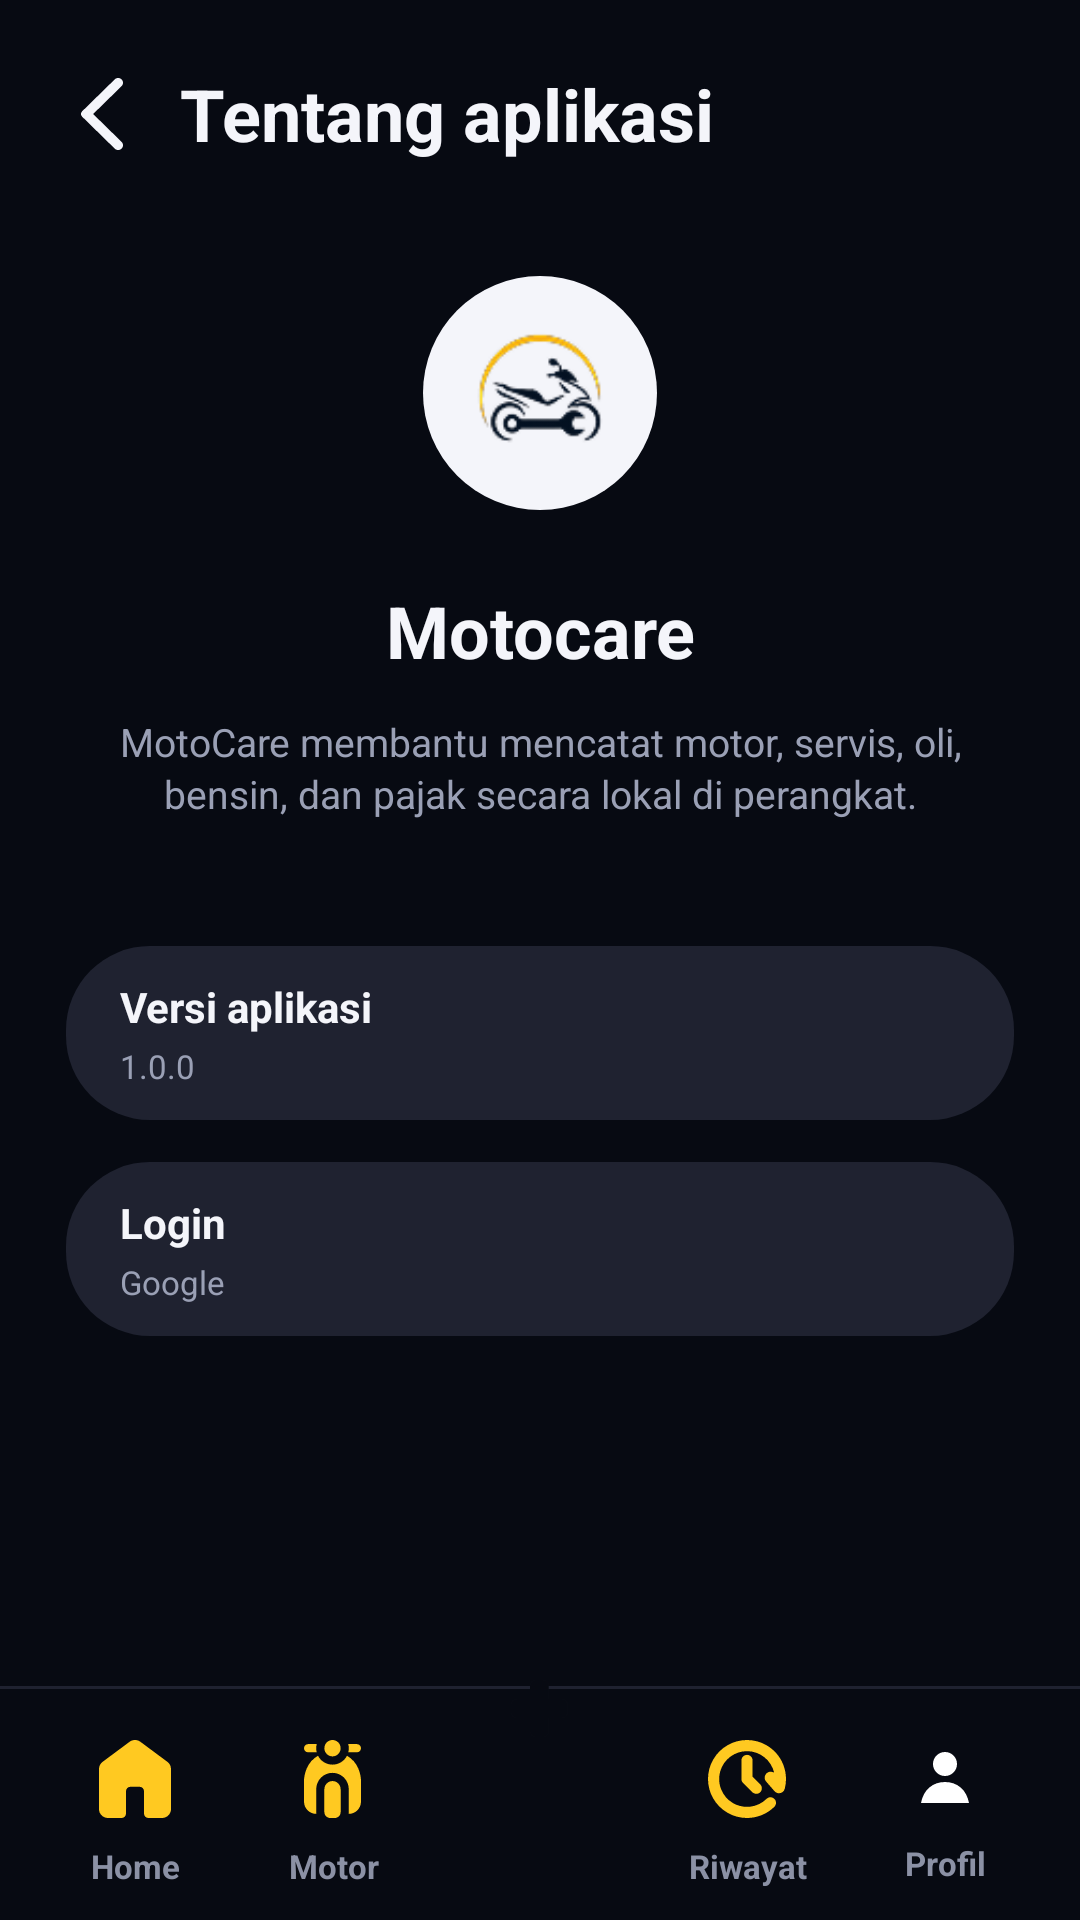

Where icons sit on this 1080x1920 app screen, as rect(x1, y1, x2, y2):
Kembali: rect(81, 78, 123, 150)
